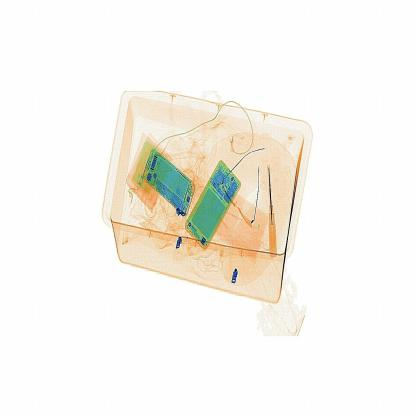wrench: (262, 162, 282, 262)
